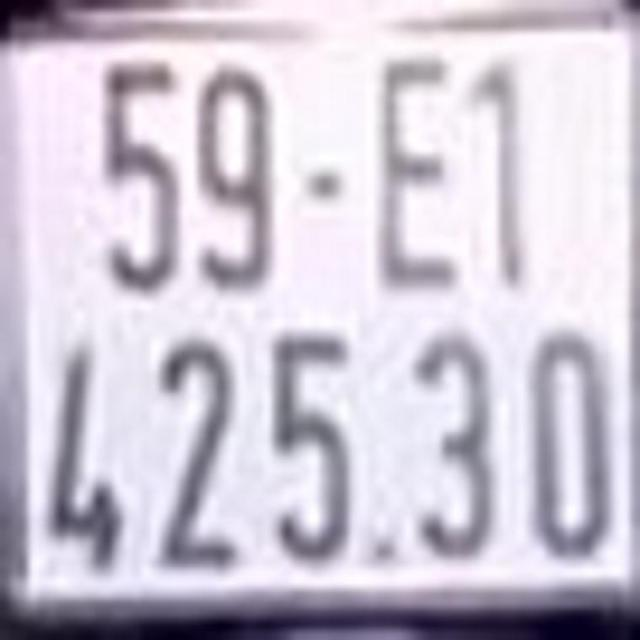0: (530, 330, 610, 554)
1: (467, 60, 528, 287)
2: (158, 336, 238, 566)
3: (411, 328, 497, 554)
4: (51, 339, 128, 567)
5: (100, 60, 183, 292), (273, 334, 353, 556)
9: (197, 67, 273, 287)
E: (382, 55, 461, 284)
